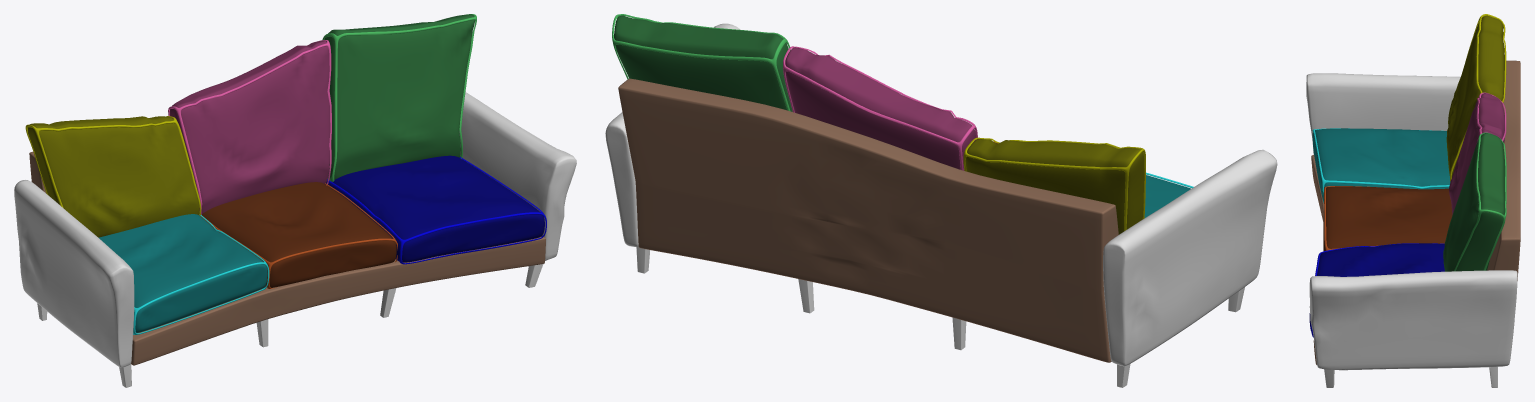
Rendered from Couch.fbx.
3 renders of one model, left to right at view 1: azimuth 30°, elevation 25°; view 2: azimuth 150°, elevation 25°; view 3: azimuth 270°, elevation 25°, orthographic. The views are drawn at different scales.
Parts seen in each view (by area): view 1: R_Top_cushion, C_Top_cushion, L_Top_cushion, R_Bottom_Cushion, L_arm, C_Bottom_cushion, L_Bottom_Cushion, Couch_Frame, R_arm; view 2: Couch_Frame, L_arm, R_Top_cushion, C_Top_cushion, L_Top_cushion, R_arm, L_Bottom_Cushion; view 3: R_arm, L_arm, L_Bottom_Cushion, C_Bottom_cushion, R_Top_cushion, L_Top_cushion, Couch_Frame, R_Bottom_Cushion, C_Top_cushion.
Part boxes in pixels (x1=…): R_Top_cushion: x1=322, y1=14, x2=476, y2=181; C_Top_cushion: x1=168, y1=40, x2=331, y2=214; L_Top_cushion: x1=25, y1=116, x2=201, y2=237; R_Bottom_Cushion: x1=326, y1=155, x2=546, y2=264; L_arm: x1=14, y1=180, x2=134, y2=367; C_Bottom_cushion: x1=200, y1=182, x2=397, y2=288; L_Bottom_Cushion: x1=99, y1=214, x2=269, y2=334; Couch_Frame: x1=29, y1=151, x2=545, y2=365; R_arm: x1=459, y1=92, x2=576, y2=260; Couch_Frame: x1=618, y1=78, x2=1118, y2=362; L_arm: x1=1103, y1=149, x2=1277, y2=366; R_Top_cushion: x1=612, y1=14, x2=792, y2=111; C_Top_cushion: x1=783, y1=46, x2=977, y2=170; L_Top_cushion: x1=963, y1=137, x2=1145, y2=234; R_arm: x1=605, y1=23, x2=740, y2=246; L_Bottom_Cushion: x1=1144, y1=172, x2=1193, y2=217; R_arm: x1=1309, y1=270, x2=1517, y2=370; L_arm: x1=1306, y1=73, x2=1460, y2=154; L_Bottom_Cushion: x1=1312, y1=128, x2=1450, y2=202; C_Bottom_cushion: x1=1323, y1=186, x2=1452, y2=251; R_Top_cushion: x1=1443, y1=132, x2=1506, y2=271; L_Top_cushion: x1=1446, y1=14, x2=1506, y2=181; Couch_Frame: x1=1311, y1=60, x2=1520, y2=364; R_Bottom_Cushion: x1=1309, y1=243, x2=1444, y2=337; C_Top_cushion: x1=1449, y1=92, x2=1506, y2=214.
Size of the model in its own units: 240 by 108 by 102.
